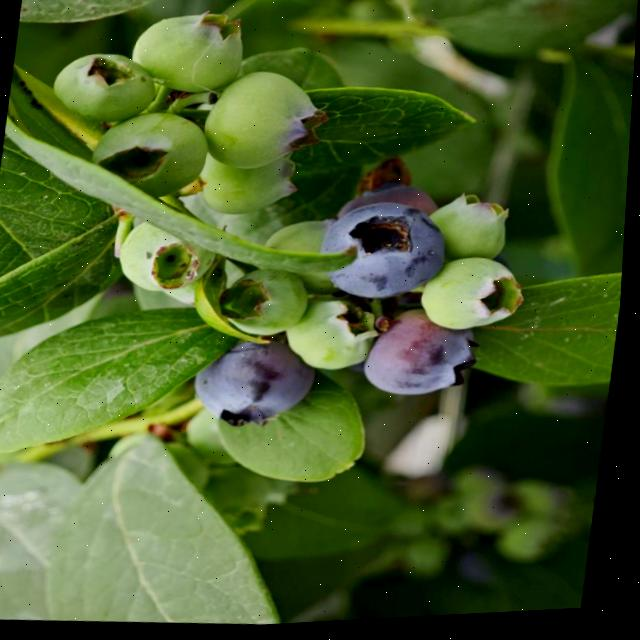RipeBlueBerry: (317, 196, 459, 310), (191, 329, 327, 434)
Semi-RipeBlueBerry: (361, 304, 486, 406)
UnripeBlueBerry: (200, 65, 330, 179), (89, 106, 216, 198), (129, 5, 252, 99), (282, 290, 398, 378), (419, 254, 533, 339), (115, 213, 226, 298), (48, 45, 164, 125), (199, 139, 303, 221), (216, 264, 318, 342)
